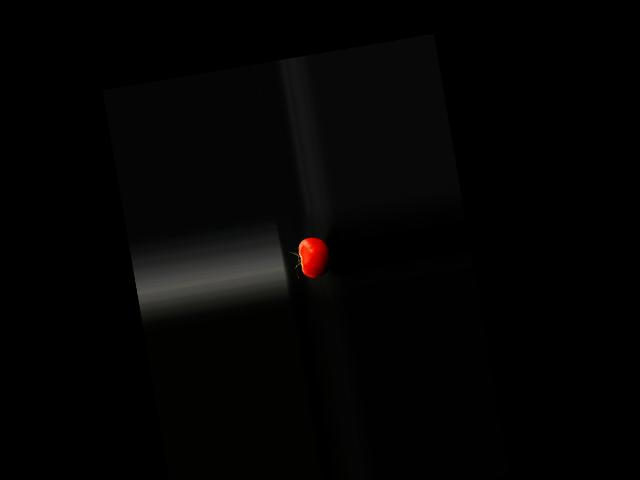tomato: (296, 234, 333, 279)
